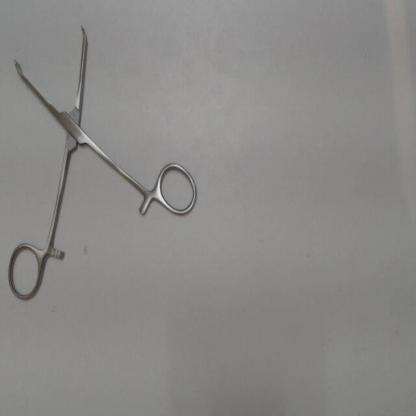Allis Tissue Forceps: (4, 17, 201, 306)
